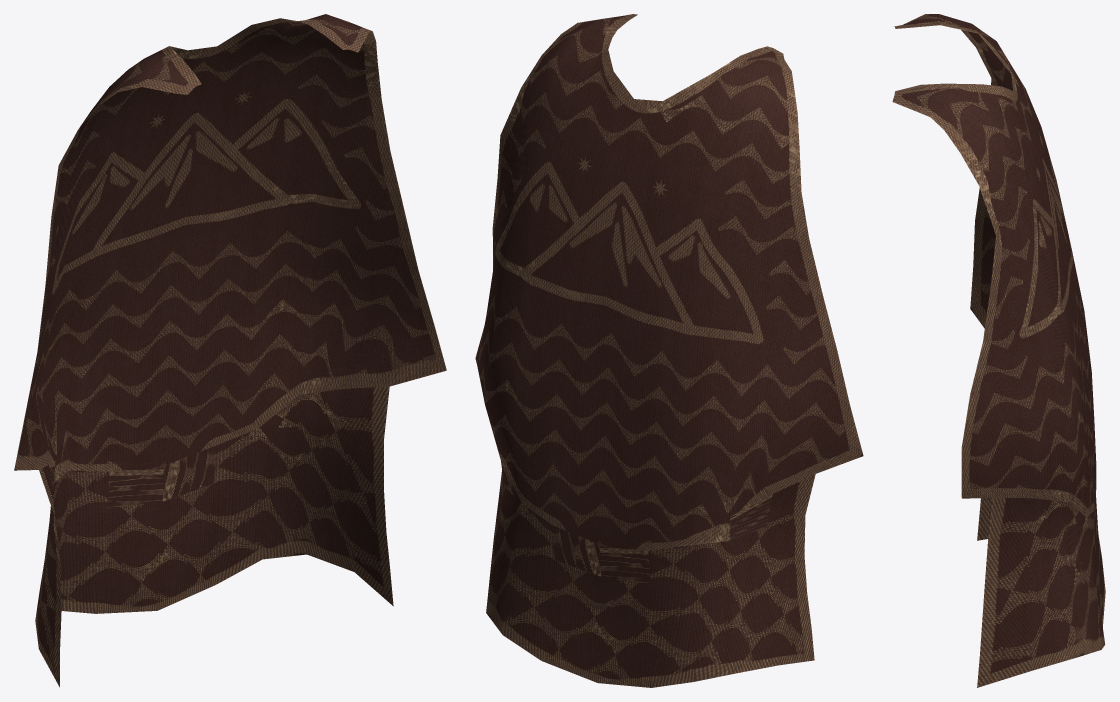
The model's file is clo_sk_dwarf_dain_pauldron_heavy_f.fbx.
3 renders of one model, left to right at view 1: azimuth 30°, elevation 25°; view 2: azimuth 150°, elevation 25°; view 3: azimuth 270°, elevation 25°, orthographic. The views are drawn at different scales.
Visible parts, largest first — view 1: clo_sk_dwarf_dain_pauldron_heavy_f; view 2: clo_sk_dwarf_dain_pauldron_heavy_f; view 3: clo_sk_dwarf_dain_pauldron_heavy_f.
Part boxes in pixels (x1,y1,x2,y2): clo_sk_dwarf_dain_pauldron_heavy_f: (14,14,446,687); clo_sk_dwarf_dain_pauldron_heavy_f: (475,14,863,687); clo_sk_dwarf_dain_pauldron_heavy_f: (892,14,1105,687).
Bounding box in the file's own units: 0.8466 × 0.4042 × 1.2.
1 material, 1 textured.
